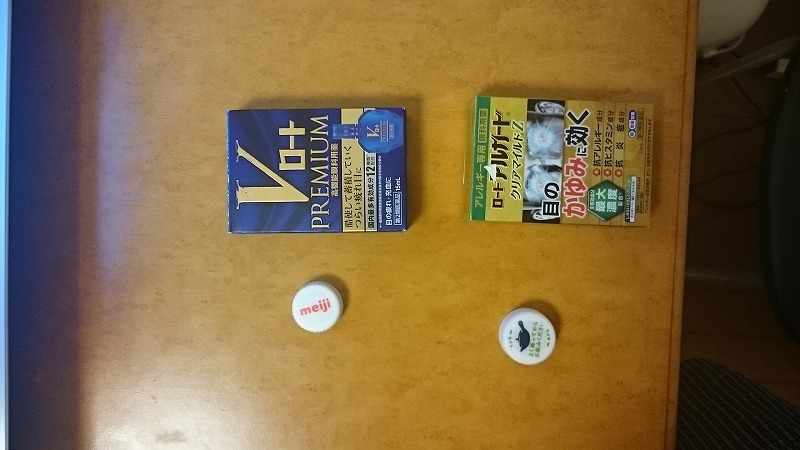A: (494, 300, 565, 369)
B: (285, 277, 351, 334)
C: (460, 92, 658, 233)
D: (219, 103, 412, 239)
